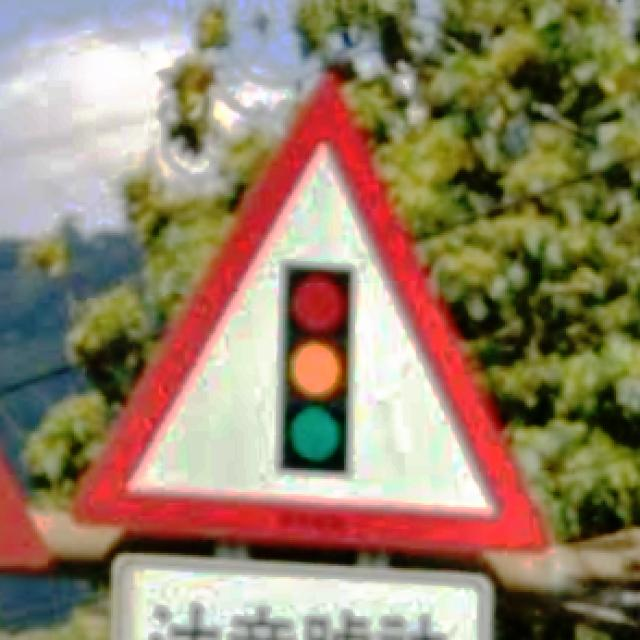signalahead: (69, 73, 553, 554)
